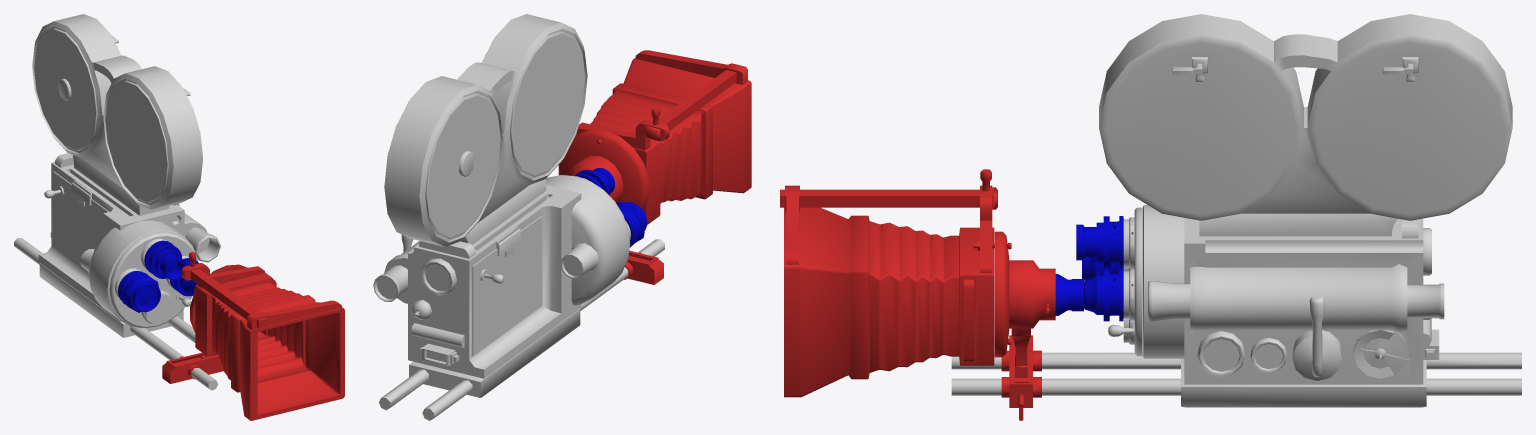
Rendered from Vintage Film Camera with Matte Box.fbx.
3 renders of one model, left to right at view 1: azimuth 30°, elevation 25°; view 2: azimuth 150°, elevation 25°; view 3: azimuth 270°, elevation 25°, orthographic. The views are drawn at different scales.
Parts seen in each view (by area): view 1: Cube.001; view 2: Cube.001; view 3: Cube.001.
Part boxes in pixels (x1,y1,x2,y2): Cube.001: [14, 14, 344, 420]; Cube.001: [373, 14, 751, 420]; Cube.001: [780, 14, 1521, 420].
Size of the model in its own units: 39.92 by 73.53 by 133.
